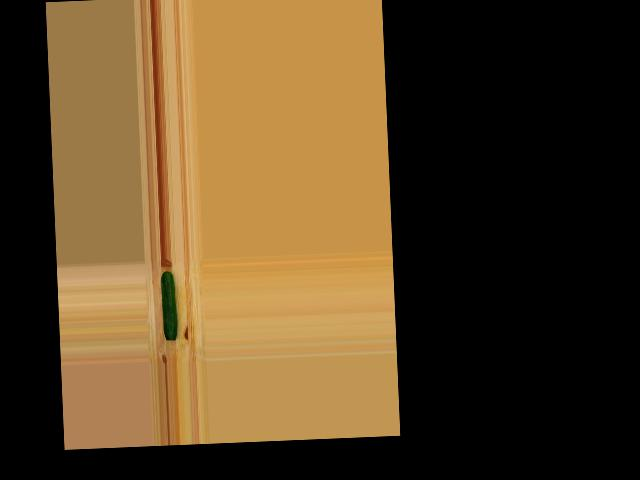cucumber: (161, 270, 177, 340)
